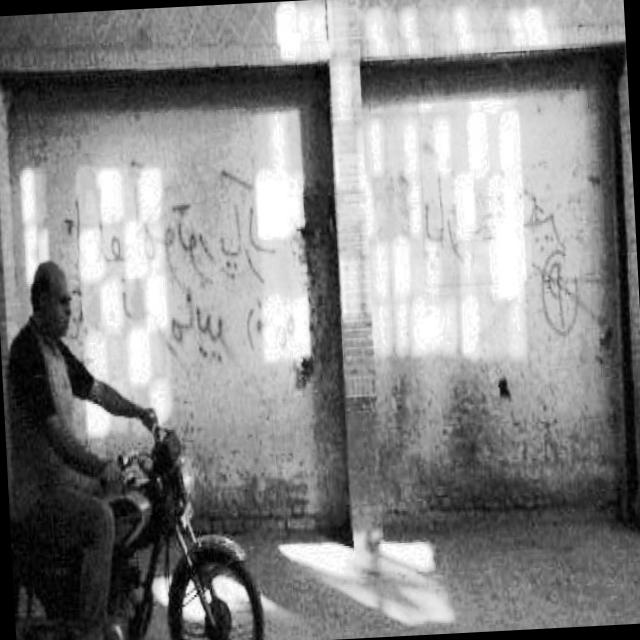Motorcycle: (4, 401, 266, 640)
Person: (0, 246, 121, 604)
